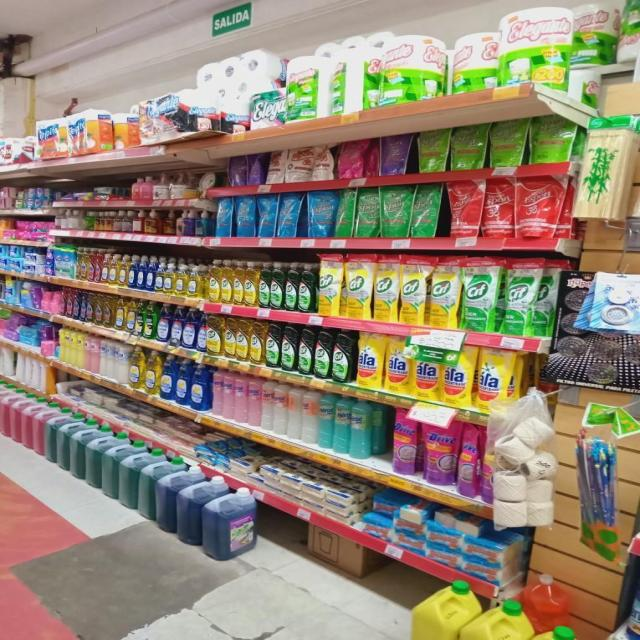ala_conc_amarillo: (94, 293, 104, 326), (85, 292, 94, 324)
ala_sachet_amarillo: (475, 346, 524, 412), (442, 345, 474, 406), (385, 334, 412, 394), (413, 342, 440, 401), (357, 331, 384, 389)
cif_conc_bot_amarilla: (206, 313, 222, 356), (244, 261, 258, 307), (250, 320, 264, 364), (236, 317, 249, 361), (223, 316, 235, 358), (208, 260, 220, 302), (221, 259, 232, 304), (233, 260, 244, 305)
cif_conc_botella_verde: (332, 329, 355, 383), (314, 328, 332, 380), (299, 262, 316, 313), (298, 326, 314, 374), (280, 324, 296, 372), (265, 322, 280, 368), (284, 262, 298, 311), (270, 261, 284, 310), (258, 261, 270, 308)
cif_conc_sachet_amarillo: (428, 256, 459, 328), (400, 254, 427, 325), (344, 252, 372, 320), (373, 253, 399, 322), (318, 253, 342, 316)
cif_conc_sachet_verde: (502, 258, 554, 336), (461, 256, 499, 332)
heroe: (350, 397, 372, 459), (334, 394, 350, 456), (318, 389, 334, 450), (302, 387, 318, 445), (274, 380, 288, 436), (288, 382, 301, 441), (248, 374, 261, 428), (234, 371, 247, 425), (261, 377, 273, 432)
magistral_con_amarillo: (146, 350, 160, 396), (187, 264, 202, 299), (163, 260, 174, 295), (175, 263, 186, 297), (119, 254, 128, 287), (156, 257, 164, 293), (110, 253, 118, 286)
magistral_con_azul: (191, 362, 209, 411), (136, 254, 146, 290), (146, 257, 156, 291), (128, 254, 135, 288)
